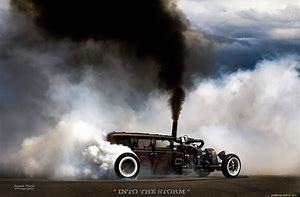smoke: (23, 1, 219, 118)
